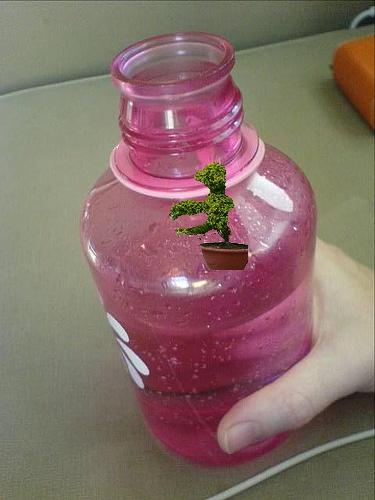tampered: (170, 163, 248, 270)
